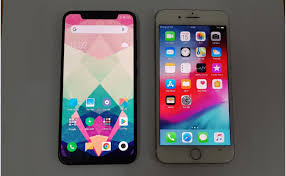iphone: (150, 4, 236, 168)
iphone7: (151, 4, 237, 168)
